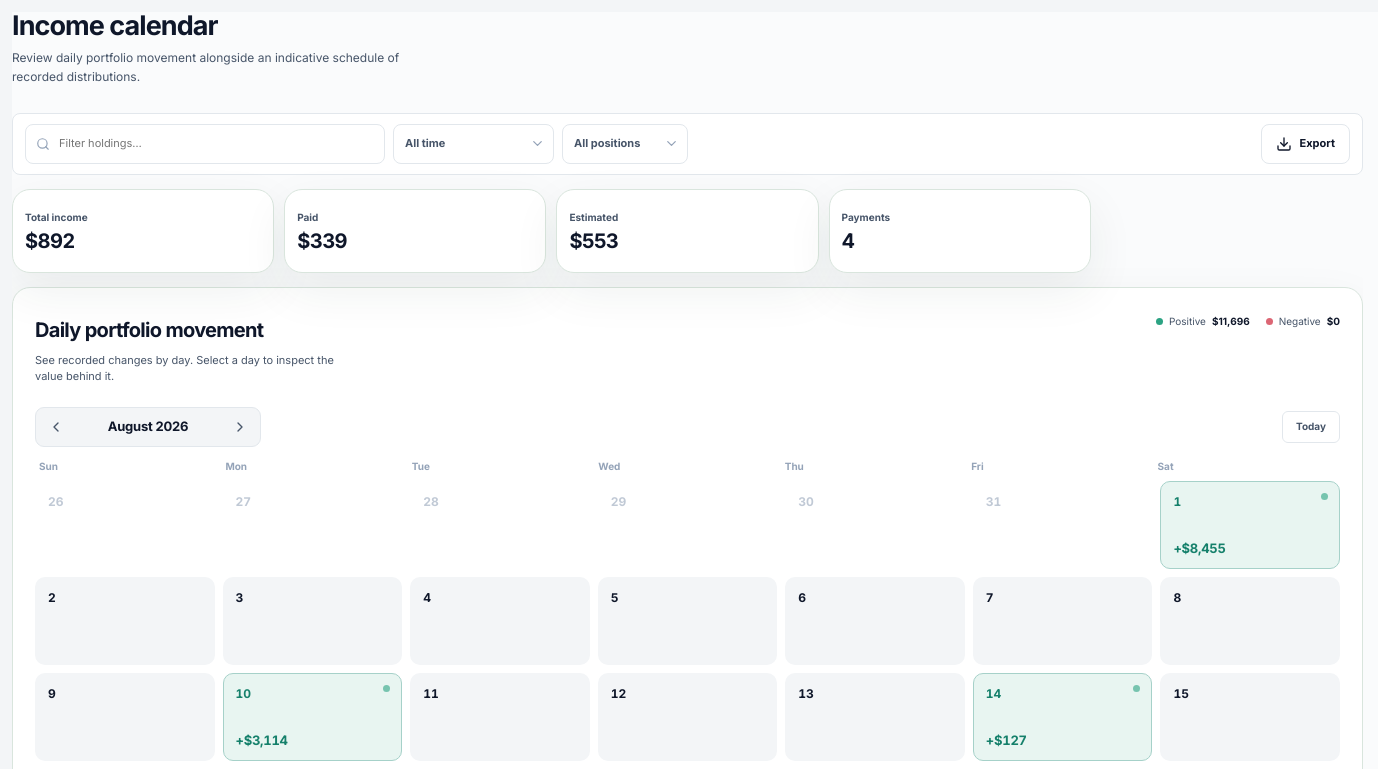
Scenario: Navexa-depth workspace routes › renders and navigates the selectable daily movement calendar
The image size is (1378, 769).
Click the cell named "Saturday 1 August 2026". click: (1250, 524)
box: [1160,480,1340,568]
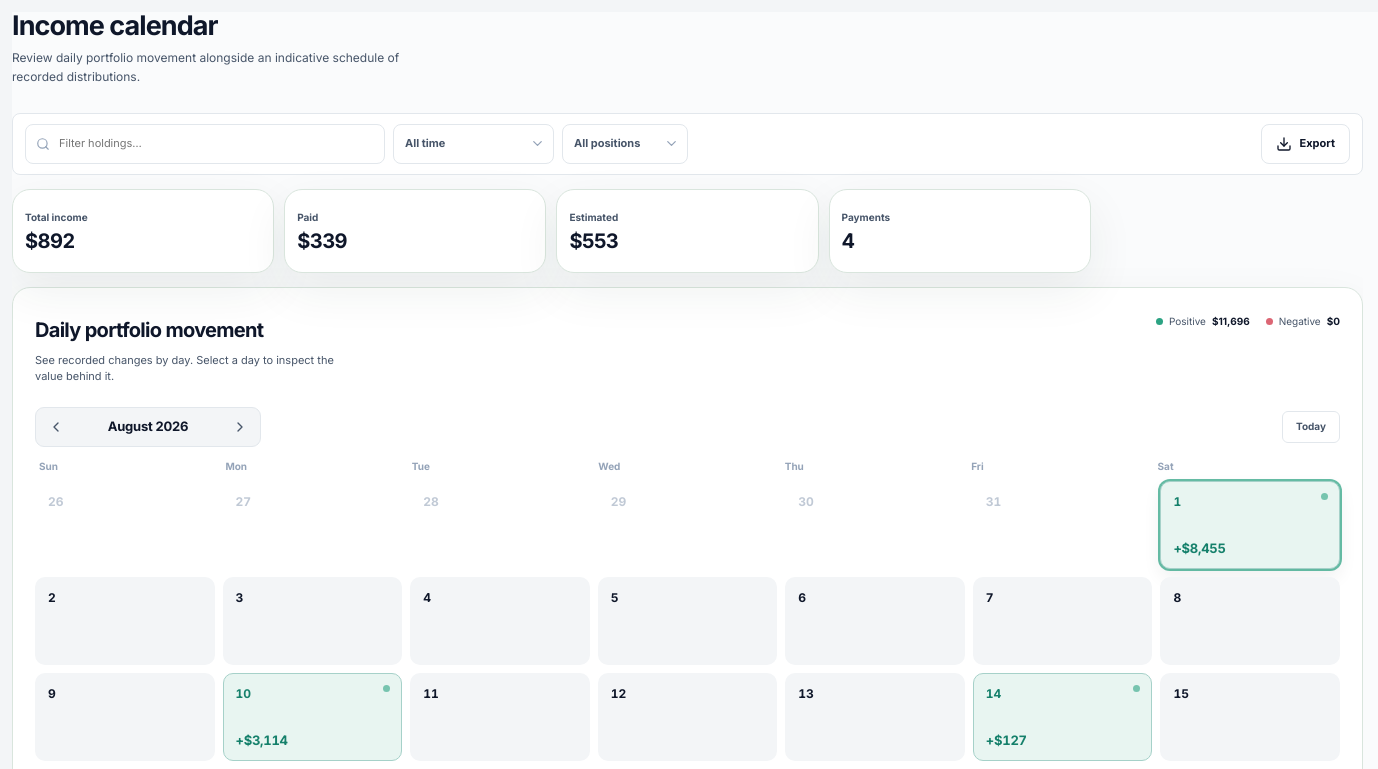
Click the button named "Next month". click: (240, 426)
box: [223,410,257,442]
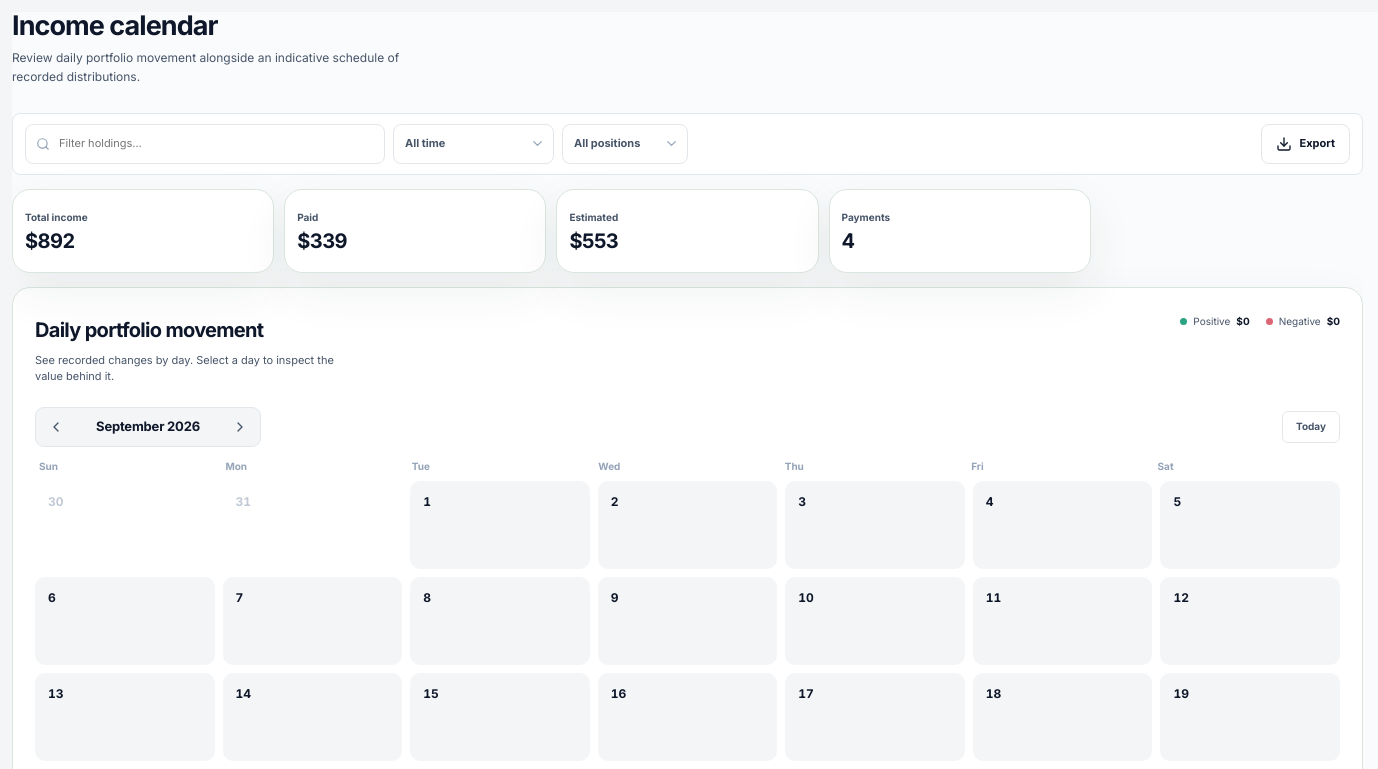
Result: the text "September 2026" is shown at [96,418,200,434]
Click the button named "Previous month". click: (56, 426)
box: [39,410,73,442]
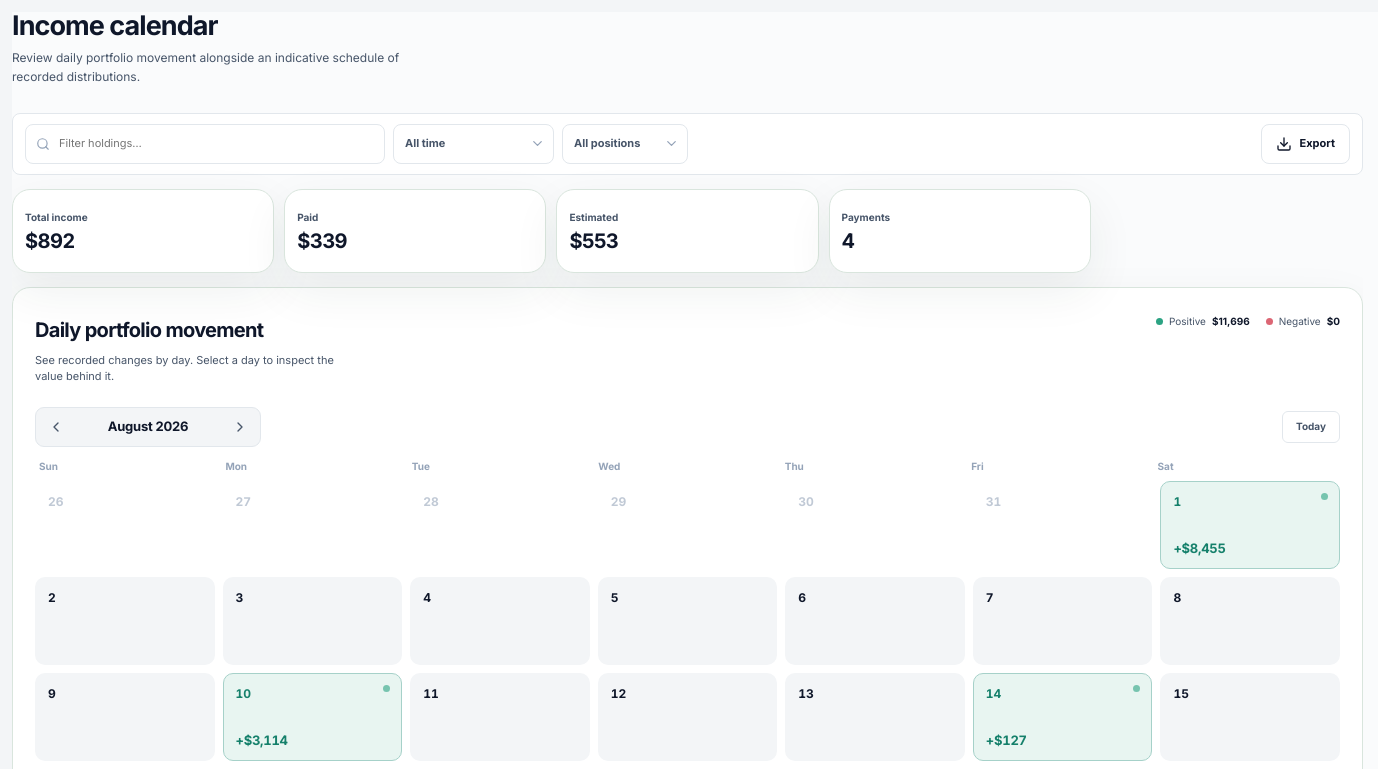
Result: the text "August 2026" is shown at [108,418,188,434]
